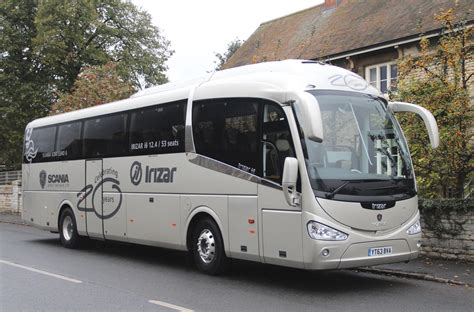bus: (21, 79, 426, 270)
